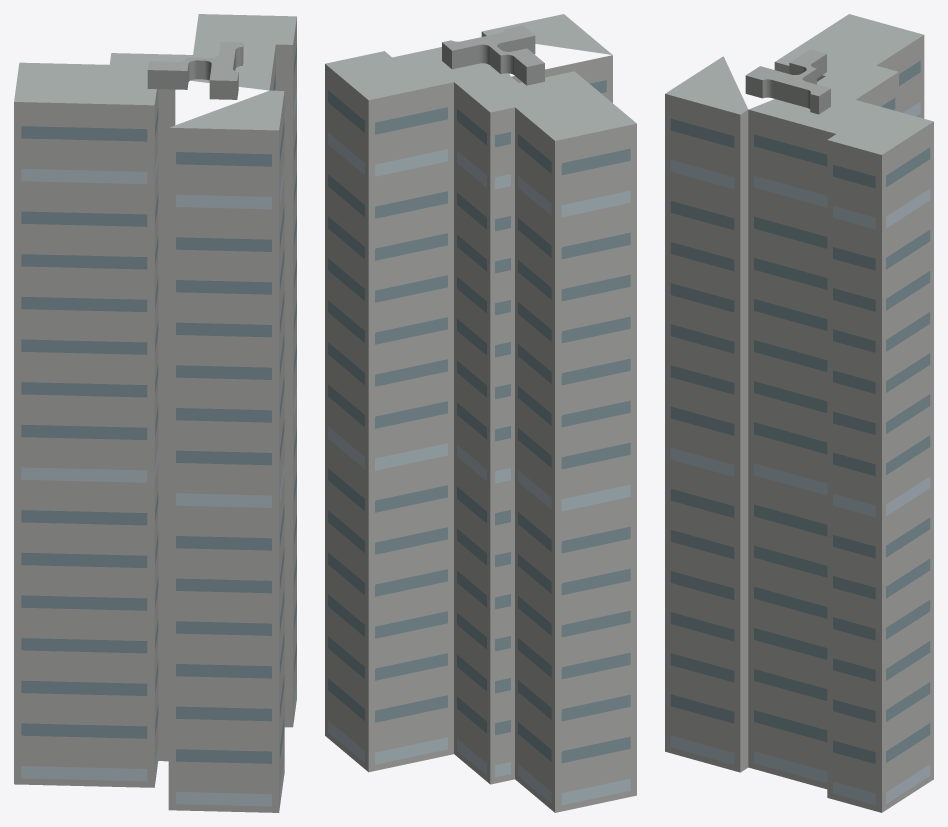
The model's file is fallback-lake-palace-133.glb.
3 views of the same model, side by side, from view 1: azimuth 30°, elevation 25°; view 2: azimuth 150°, elevation 25°; view 3: azimuth 270°, elevation 25° (orthographic). The views are drawn at different scales.
Visible parts, largest first — view 1: fallback-lake-palace-133; view 2: fallback-lake-palace-133; view 3: fallback-lake-palace-133.
Boxes of the visible parts, x1=… form: fallback-lake-palace-133: x1=14, y1=14, x2=296, y2=812; fallback-lake-palace-133: x1=325, y1=14, x2=636, y2=812; fallback-lake-palace-133: x1=665, y1=14, x2=933, y2=812.
Bounding box in the file's own units: 39.82 × 89 × 32.07.
